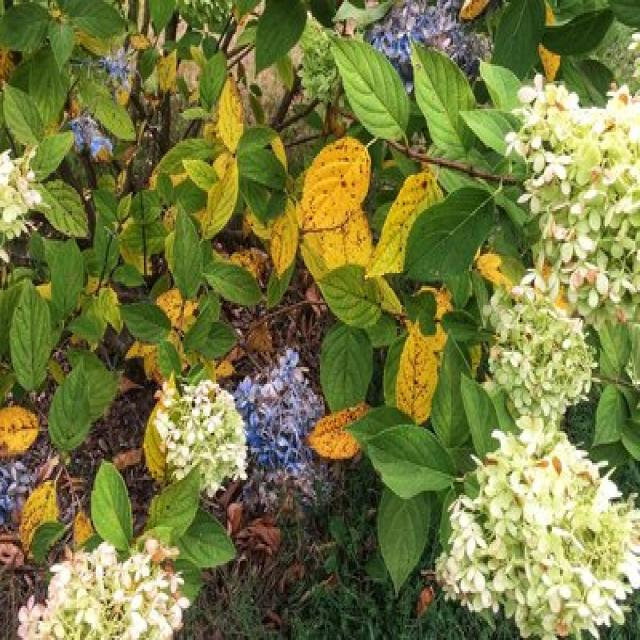green waste: (4, 7, 640, 630)
